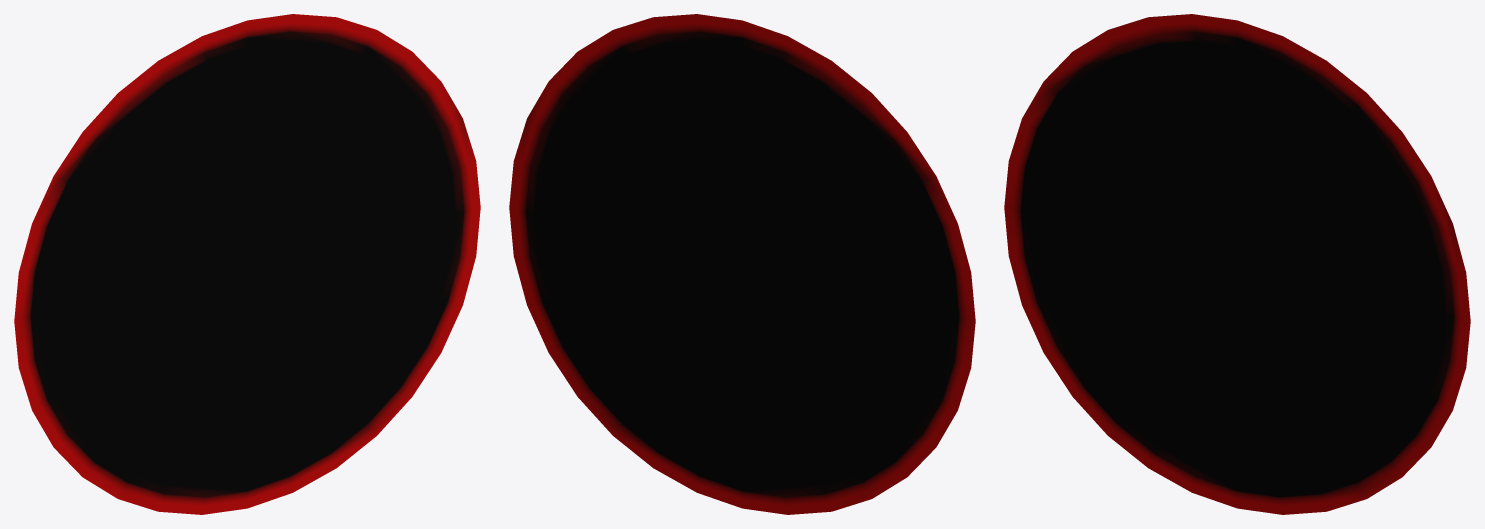
The model's file is TearableMesh.fbx.
3 renders of one model, left to right at view 1: azimuth 30°, elevation 25°; view 2: azimuth 150°, elevation 25°; view 3: azimuth 330°, elevation 25°, orthographic.
Parts seen in each view (by area): view 1: Cylinder; view 2: Cylinder; view 3: Cylinder.
Boxes of the visible parts, x1,y1,x2,y2 form: Cylinder: (14,14,480,514); Cylinder: (509,14,975,514); Cylinder: (1004,14,1470,514).
Bounding box in the file's own units: 84661 × 84661 × 0.0121.
